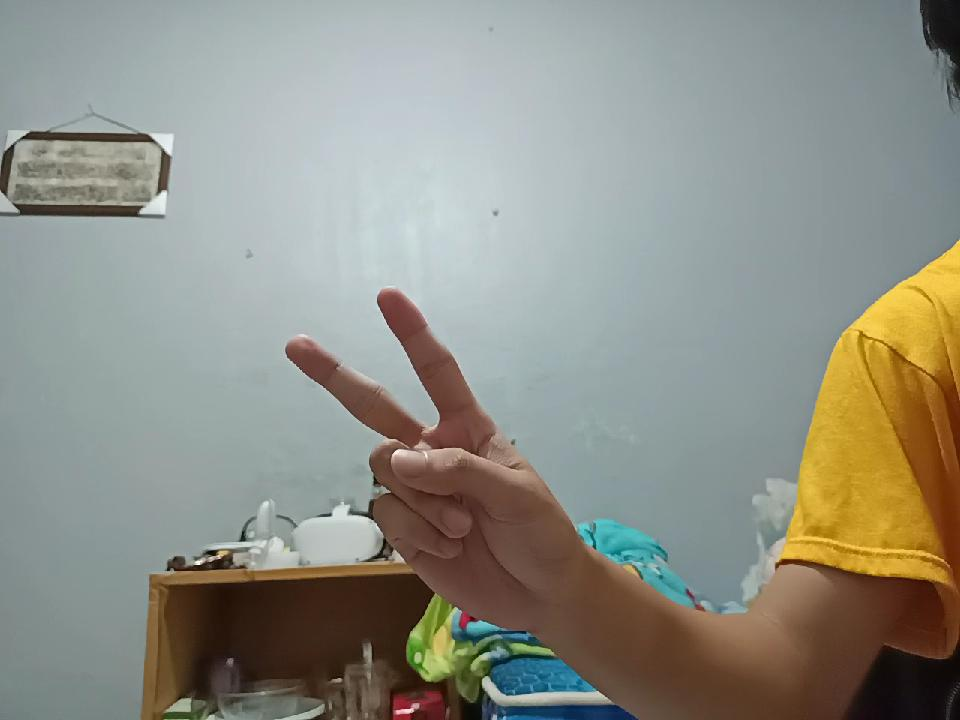scissors: (277, 255, 577, 650)
